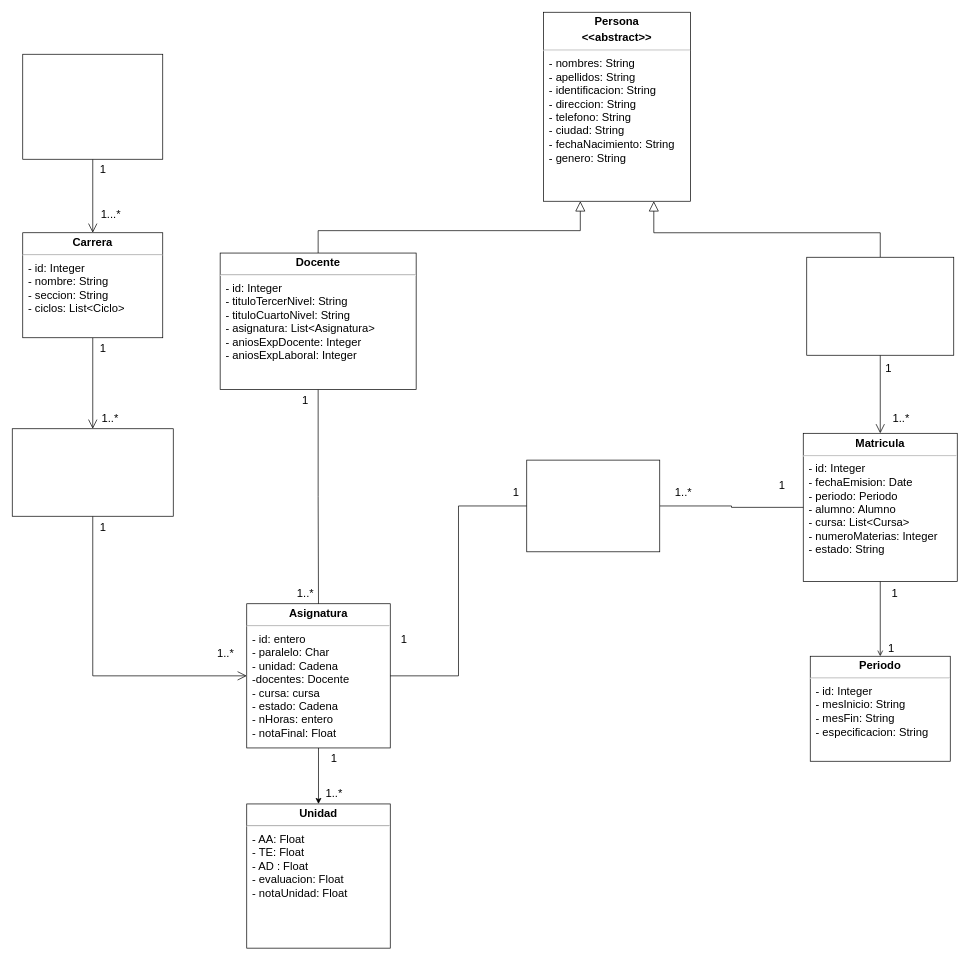
Some shapes in this 970 by 960 pixel diagram are drawn without their labels. Each missing label, with the box of its shape:
Alumno - id: Integer - matriculas: List<Matricula> - asistencia: String: (806, 257, 954, 355)
Ciclo - id: Integer - nombre: String - asignatura: List<Asignatura>: (12, 428, 173, 516)
Cursa - matricula: Matricula - asignatura: Asignatura - horasAsistidas: Integer: (526, 459, 660, 552)
Malla - id: Integer - regimen: String - carreras: List<Carrera>: (22, 54, 163, 159)
